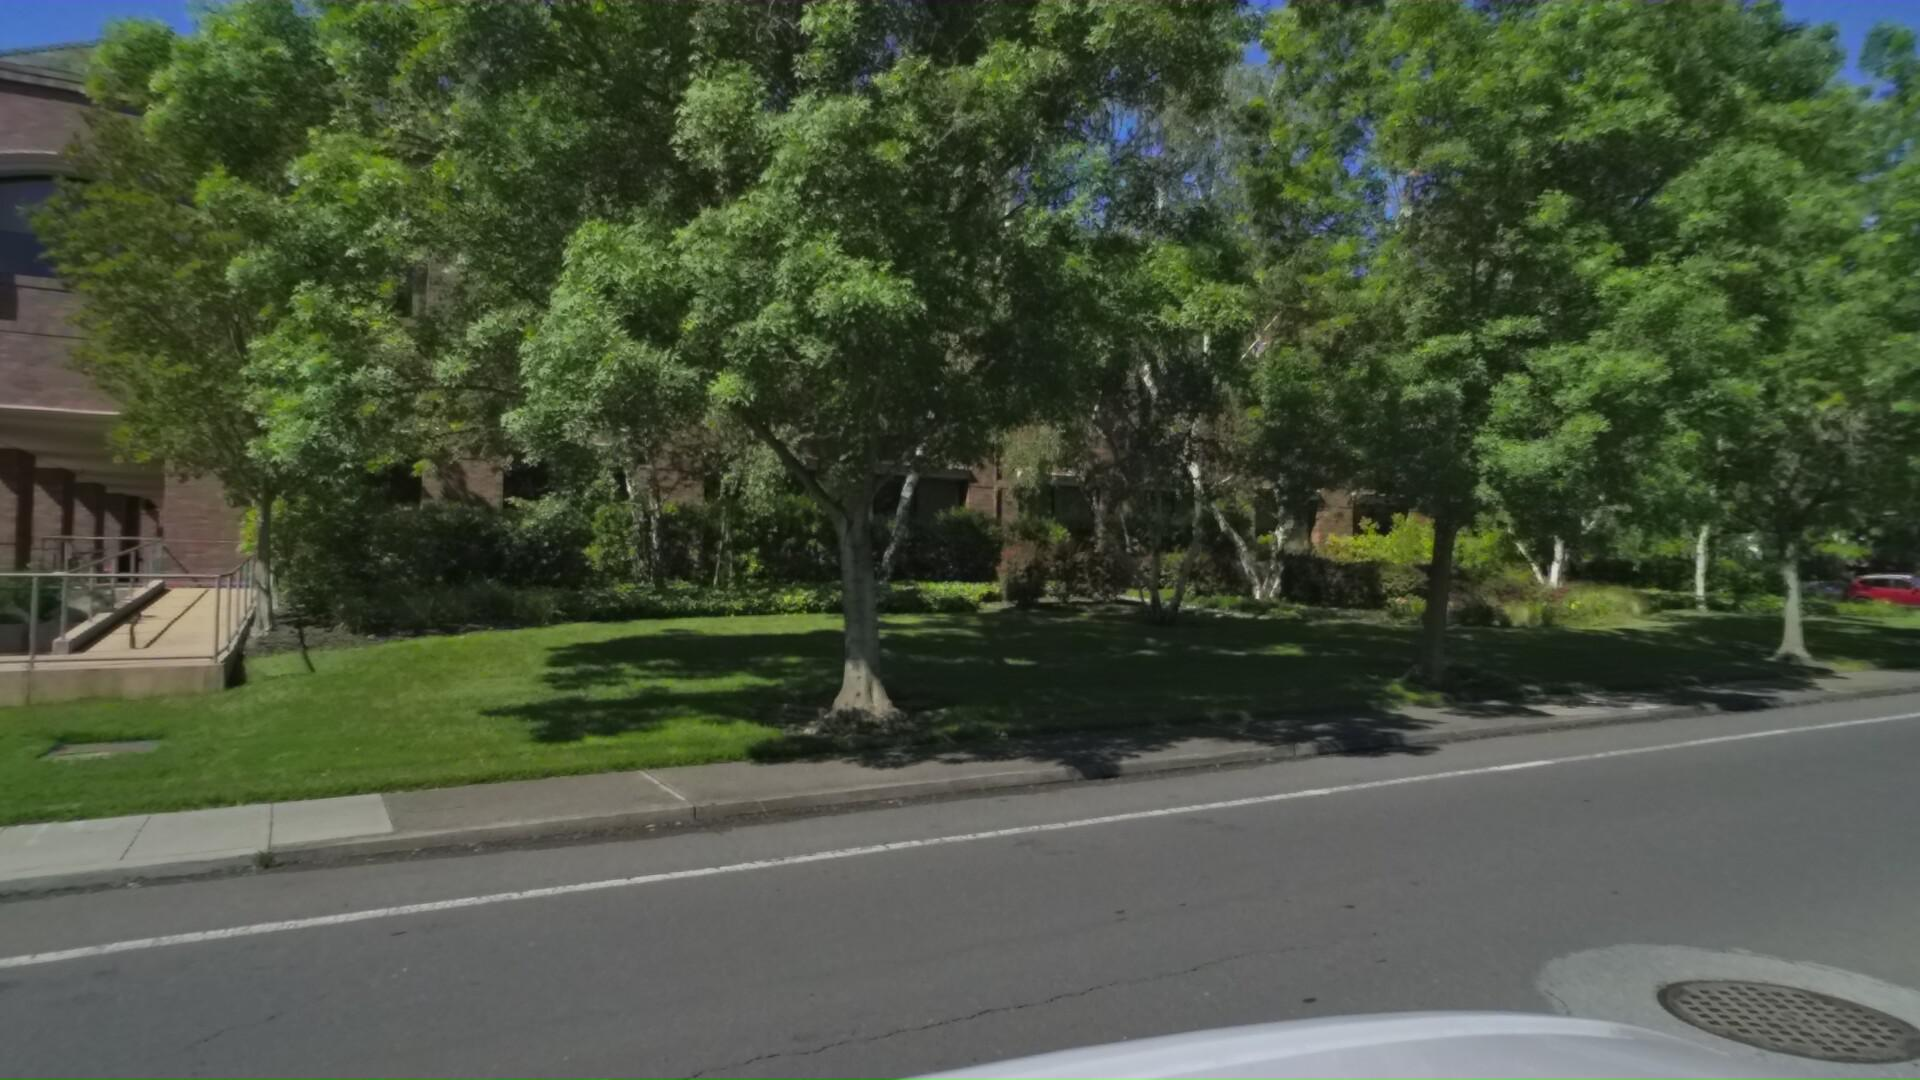car: (1828, 570, 1920, 611)
